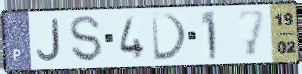1: (199, 9, 219, 62)
4: (118, 14, 147, 61)
7: (236, 8, 268, 60)
D: (149, 11, 191, 63)
J: (35, 17, 63, 64)
S: (67, 14, 105, 64)
